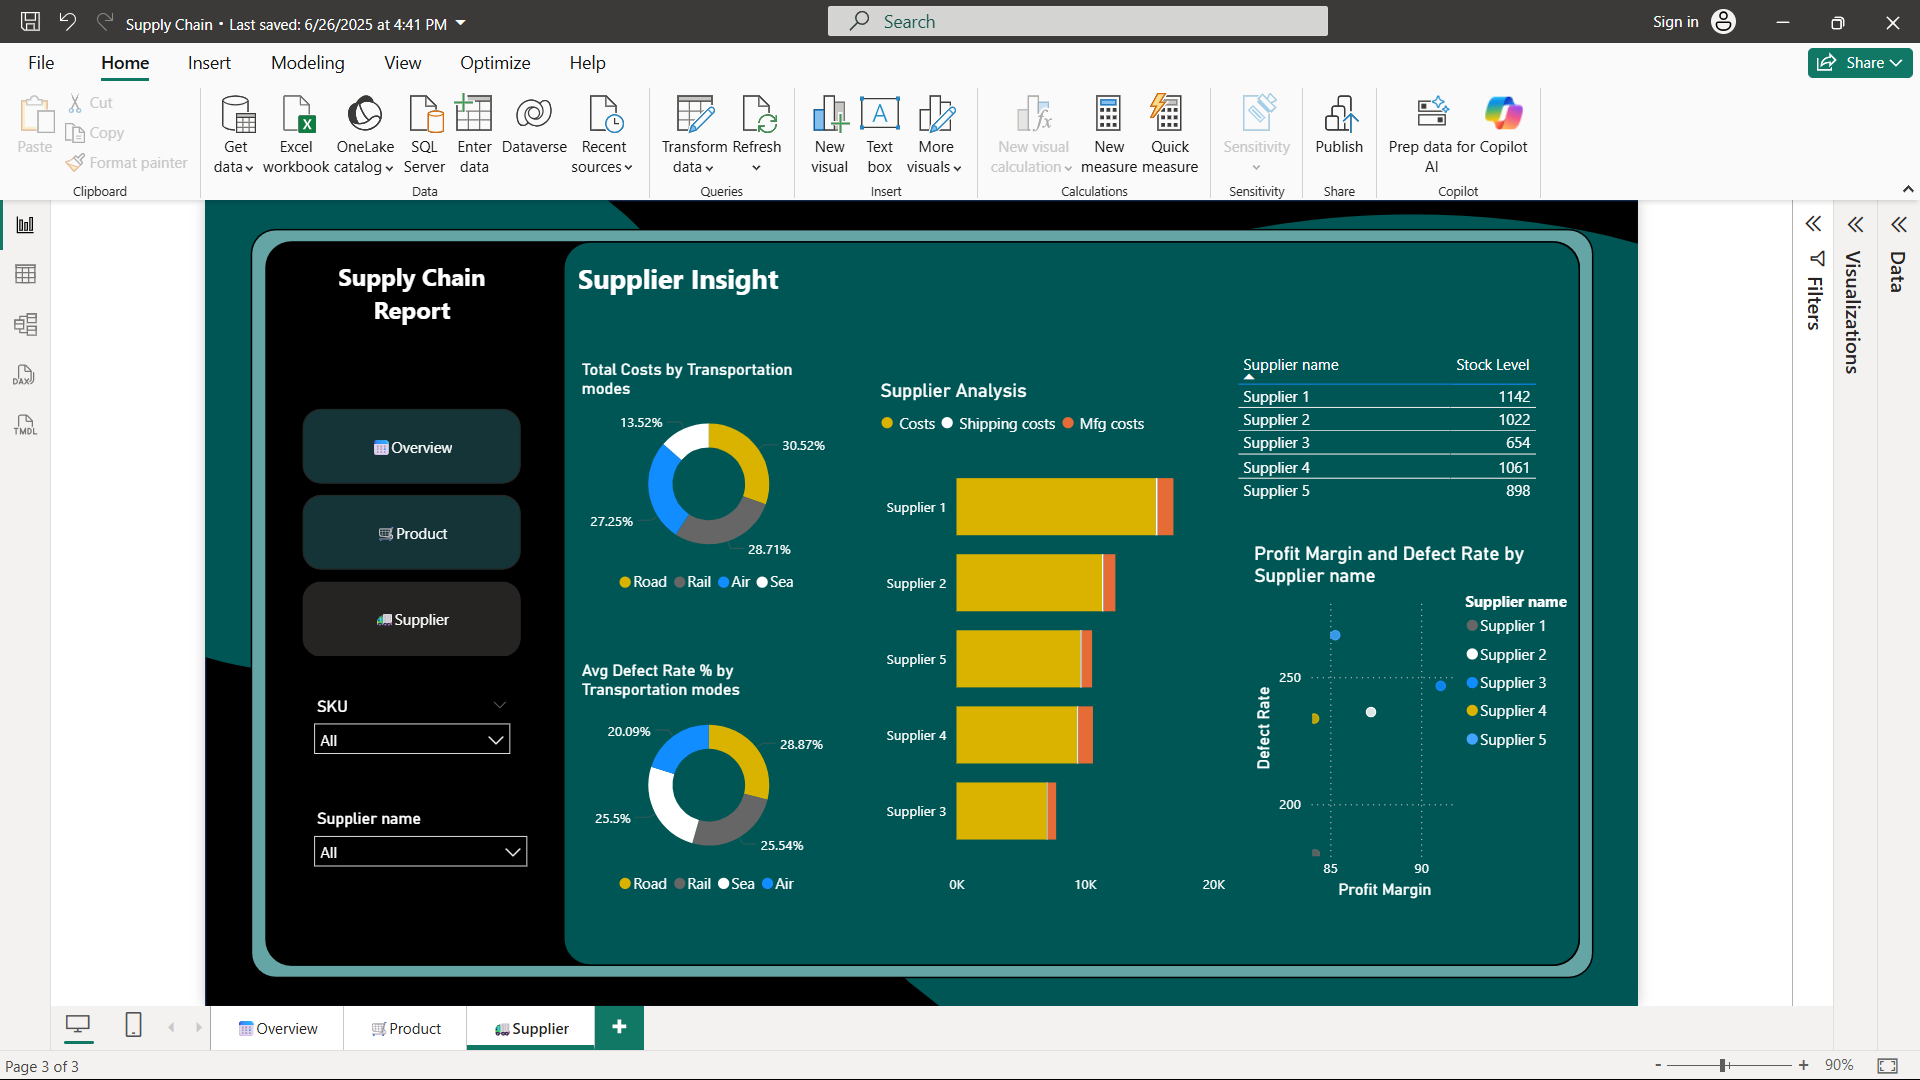

What the dashboard file says about the page in this screenshot:
{"tool":"powerbi","page":{"name":"🚛Supplier","canvas":[1280,720],"ordinal":2},"visuals":[{"type":"donutChart","fields":{"Category":["supply_chain_data.Transportation modes"],"Y":["_Measures.Total Costs"]},"box":[331.4,143,237.2,217.4],"z":0},{"type":"donutChart","fields":{"Category":["supply_chain_data.Transportation modes"],"Y":["_Measures.Avg Defect Rate %"]},"box":[331.4,411.6,237.2,217.4],"z":1000},{"type":"barChart","title":"Supplier Analysis","fields":{"Category":["supply_chain_data.Supplier name"],"Y":["Sum(supply_chain_data.Costs)","Sum(supply_chain_data.Shipping costs)","Sum(supply_chain_data.Mfg costs)"]},"box":[598.8,159.3,317.4,469.8],"z":2000},{"type":"tableEx","fields":{"Values":["supply_chain_data.Supplier name","_Measures.Stock Level"]},"box":[916.3,130.2,294.2,152.3],"z":3000},{"type":"scatterChart","fields":{"X":["_Measures.Avg Profit Margin %"],"Series":["supply_chain_data.Supplier name"],"Y":["_Measures.Avg Defect Rate %"]},"box":[932.6,305.8,297.7,323.3],"z":4000},{"type":"textbox","box":[327.9,48.8,219.8,59.3],"z":5000},{"type":"pageNavigator","box":[87.2,186,195.3,222.1],"z":6000},{"type":"slicer","fields":{"Values":["supply_chain_data.Supplier name"]},"box":[87.2,539.5,210.5,88.4],"z":7000},{"type":"slicer","fields":{"Values":["supply_chain_data.SKU"]},"box":[87.2,438.4,195.3,75.6],"z":8000},{"type":"textbox","box":[87.2,48.8,195.3,101.2],"z":9000}]}

Visuals, with their boxes on the page's 1280x720 design canvas (x1, y1, x2, y2). These are canvas units, not pixel positions in the 1920x1080 screenshot, which may show the page scaled, cropped or inside an application window:
donutChart - supply_chain_data.Transportation modes x _Measures.Total Costs: <box>331,143,569,360</box>
donutChart - supply_chain_data.Transportation modes x _Measures.Avg Defect Rate %: <box>331,412,569,629</box>
"Supplier Analysis" barChart: <box>599,159,916,629</box>
tableEx - supply_chain_data.Supplier name x _Measures.Stock Level: <box>916,130,1210,282</box>
scatterChart - _Measures.Avg Profit Margin % x supply_chain_data.Supplier name: <box>933,306,1230,629</box>
textbox: <box>328,49,548,108</box>
pageNavigator: <box>87,186,282,408</box>
slicer - supply_chain_data.Supplier name: <box>87,540,298,628</box>
slicer - supply_chain_data.SKU: <box>87,438,282,514</box>
textbox: <box>87,49,282,150</box>
